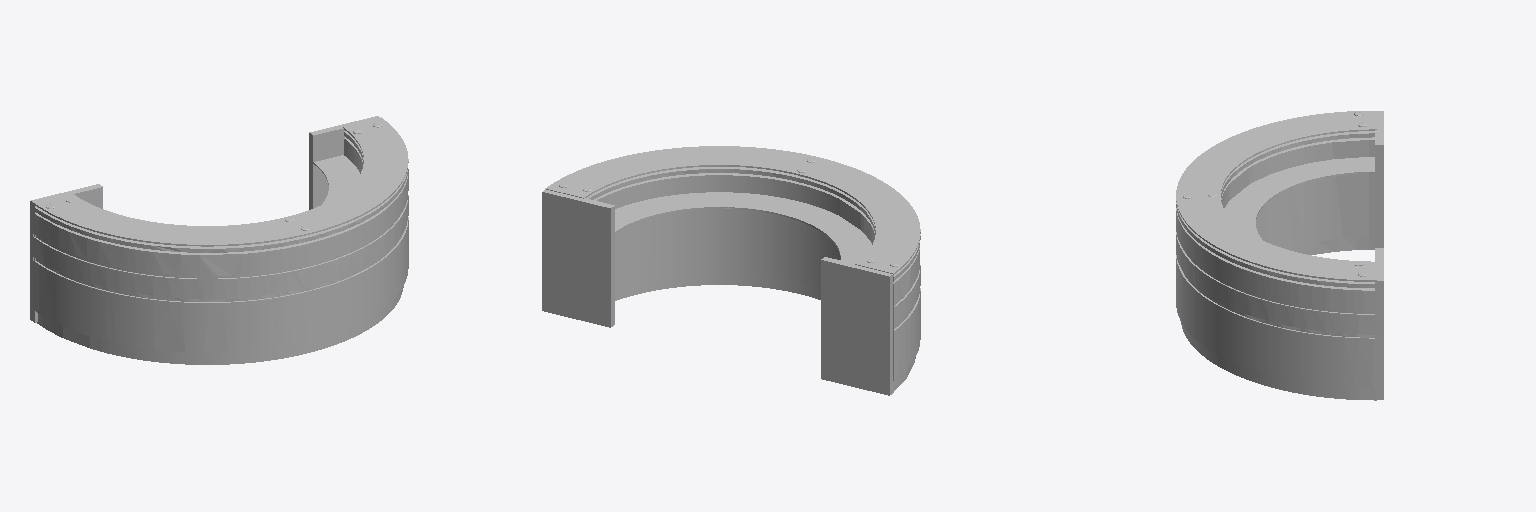
Rendered from mesaRecep.obj.
The picture shows the model from 3 angles: view 1: azimuth 30°, elevation 25°; view 2: azimuth 150°, elevation 25°; view 3: azimuth 270°, elevation 25°; orthographic projection.
Parts seen in each view (by area): view 1: Mesh; view 2: Mesh; view 3: Mesh.
Boxes of the visible parts, <box> form: Mesh: <box>30,116,408,364</box>; Mesh: <box>542,146,920,395</box>; Mesh: <box>1176,111,1383,400</box>.
Size of the model in its own units: 4.44 by 1.5 by 2.29.